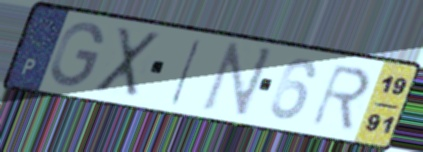6: (268, 57, 320, 123)
G: (48, 20, 107, 89)
I: (166, 36, 206, 108)
N: (197, 40, 277, 122)
R: (308, 62, 374, 133)
X: (92, 24, 163, 100)
